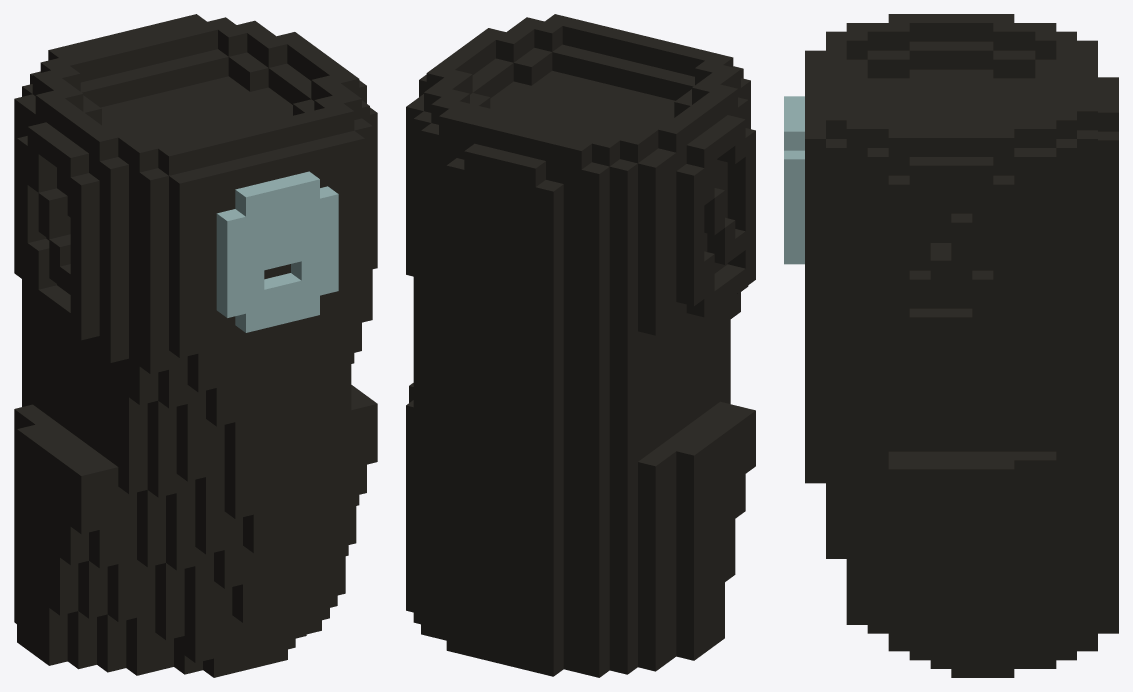
File: IdolBlind.obj
3 views of the same model, side by side, from view 1: azimuth 30°, elevation 25°; view 2: azimuth 150°, elevation 25°; view 3: azimuth 270°, elevation 25° (orthographic). The views are drawn at different scales.
Parts seen in each view (by area): view 1: IdolBlind; view 2: IdolBlind; view 3: IdolBlind.
Part boxes in pixels (<box>): IdolBlind: <box>14,14,377,677</box>; IdolBlind: <box>406,14,755,677</box>; IdolBlind: <box>784,14,1118,677</box>.
Bounding box in the file's own units: 16 × 28 × 16.
Materials: 1 (1 with a texture image).
